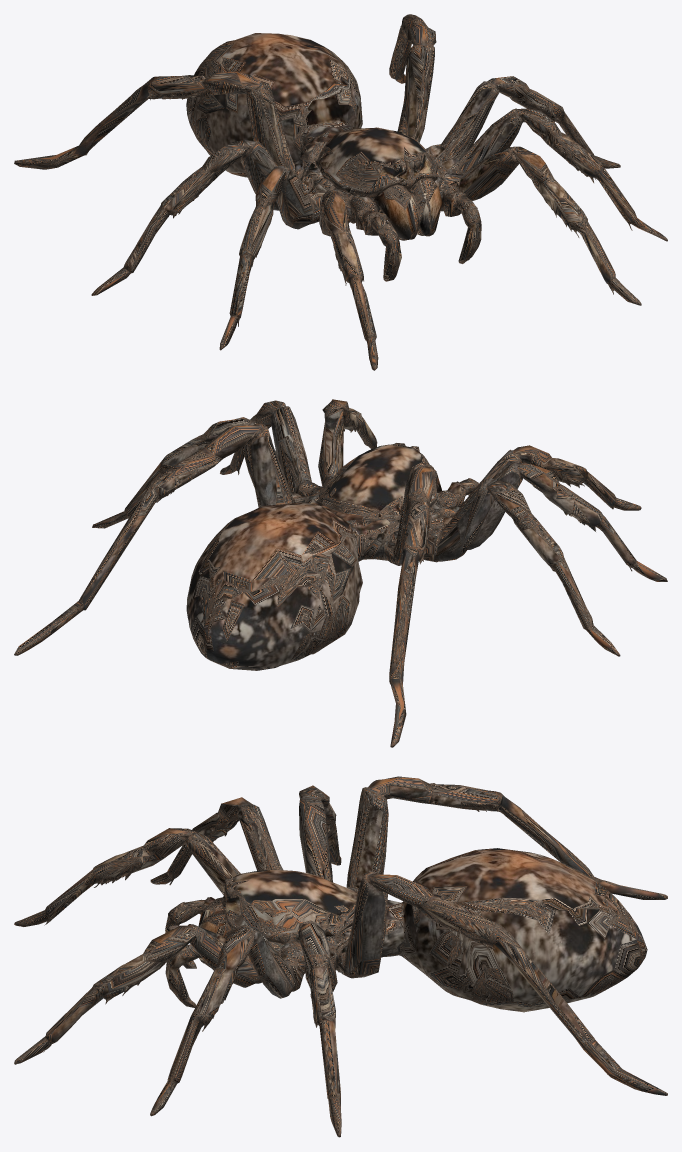
Rendered from giant-wolf-spider.glb.
3 views of the same model, one above another, from view 1: azimuth 30°, elevation 25°; view 2: azimuth 150°, elevation 25°; view 3: azimuth 270°, elevation 25° (orthographic). The views are drawn at different scales.
Size of the model in its own units: 2 by 0.589 by 2.
Materials: 1 (1 with a texture image).
